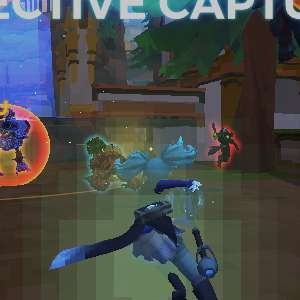model: (1, 107, 46, 178), (209, 119, 240, 171)
